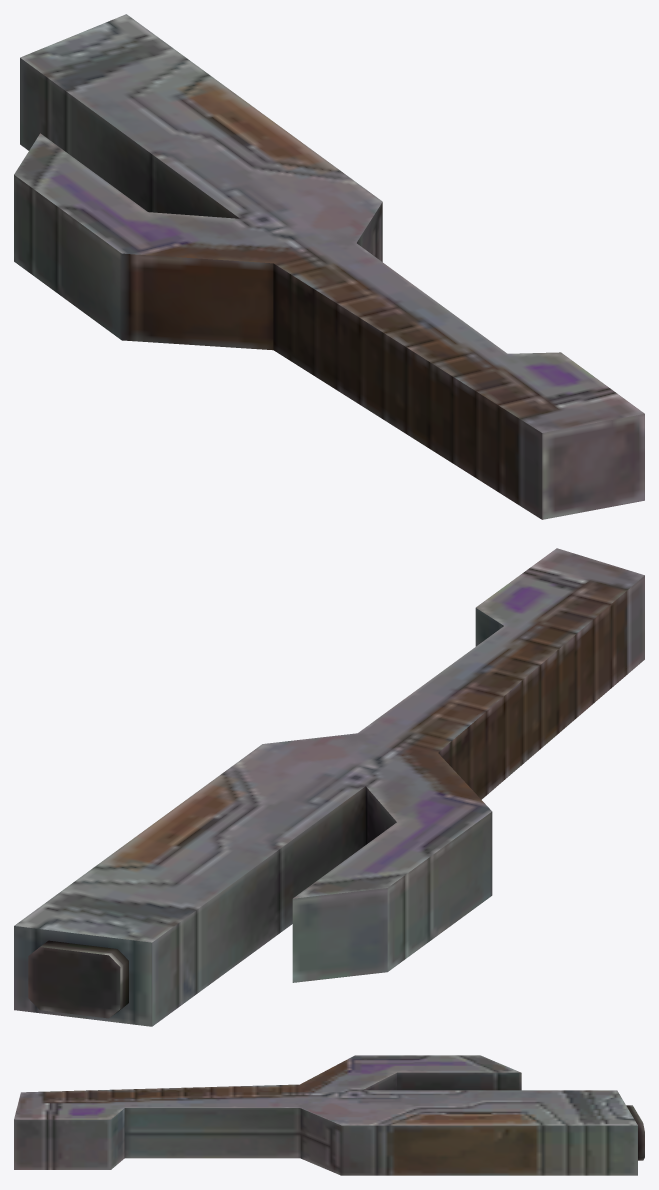
Rendered from all_item_construction_workbench_tool02.glb.
3 views of the same model, one above another, from view 1: azimuth 30°, elevation 25°; view 2: azimuth 150°, elevation 25°; view 3: azimuth 270°, elevation 25° (orthographic). The views are drawn at different scales.
Parts seen in each view (by area): view 1: all_item_construction_workbench_tool02; view 2: all_item_construction_workbench_tool02; view 3: all_item_construction_workbench_tool02.
Boxes of the visible parts, x1,y1,x2,y2 form: all_item_construction_workbench_tool02: [14, 14, 644, 519]; all_item_construction_workbench_tool02: [14, 548, 644, 1026]; all_item_construction_workbench_tool02: [14, 1055, 644, 1175].
Size of the model in its own units: 0.0144 by 0.00481 by 0.0548.
1 material, 1 textured.
